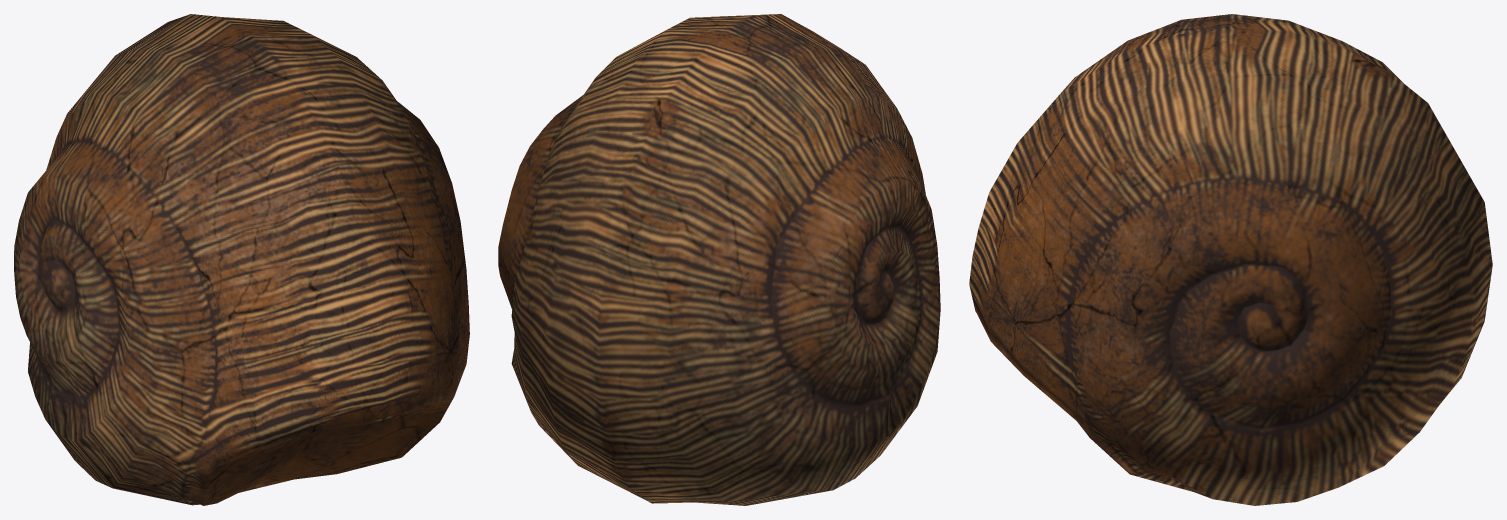
Rendered from snail_shell.obj.
The picture shows the model from 3 angles, left to right: view 1: azimuth 30°, elevation 25°; view 2: azimuth 150°, elevation 25°; view 3: azimuth 270°, elevation 25°; orthographic projection. The views are drawn at different scales.
Visible parts, largest first — view 1: obj1; view 2: obj1; view 3: obj1.
Part boxes in pixels (x1=…): obj1: x1=14, y1=14, x2=469, y2=505; obj1: x1=498, y1=14, x2=940, y2=505; obj1: x1=969, y1=14, x2=1492, y2=505.
Bounding box in the file's own units: 1.87 × 2.15 × 2.29.
Materials: 1 (1 with a texture image).
